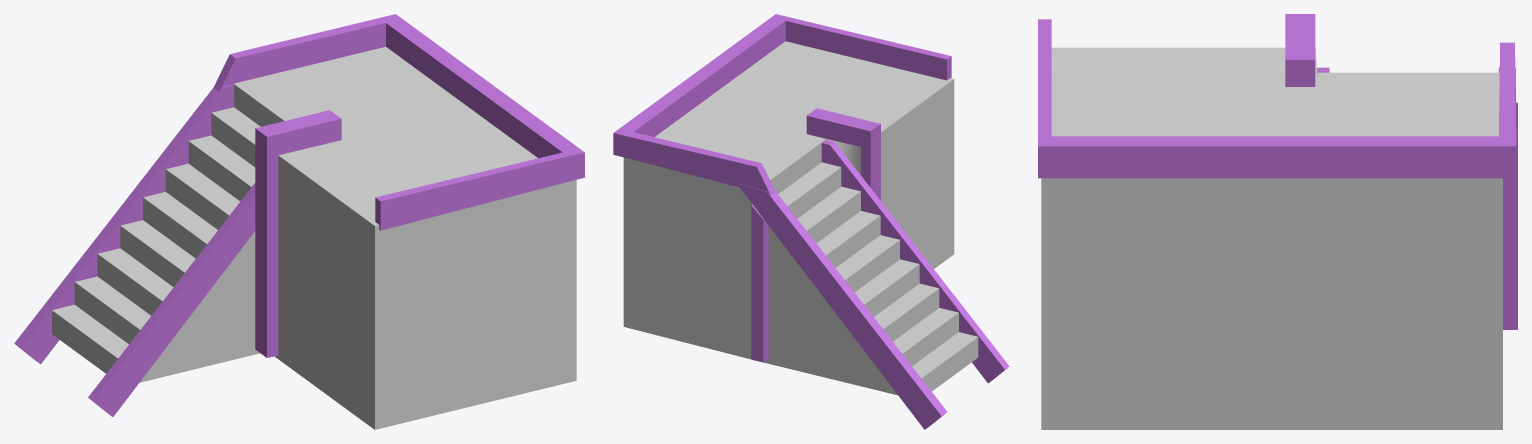
File: M3_Bo_MedalWorks_Stairs_platform_low.fbx
3 renders of one model, left to right at view 1: azimuth 30°, elevation 25°; view 2: azimuth 150°, elevation 25°; view 3: azimuth 270°, elevation 25°, orthographic. The views are drawn at different scales.
Parts seen in each view (by area): view 1: stairs_Planks_low, stairs_edge2_low; view 2: stairs_Planks_low, stairs_edge2_low; view 3: stairs_Planks_low, stairs_edge2_low.
Part boxes in pixels (x1=…): stairs_Planks_low: x1=52, y1=47, x2=576, y2=429; stairs_edge2_low: x1=14, y1=14, x2=584, y2=416; stairs_Planks_low: x1=623, y1=41, x2=978, y2=395; stairs_edge2_low: x1=613, y1=14, x2=1009, y2=429; stairs_Planks_low: x1=1041, y1=47, x2=1502, y2=429; stairs_edge2_low: x1=1038, y1=14, x2=1517, y2=329.
Size of the model in its own units: 1165 by 752 by 1003.
